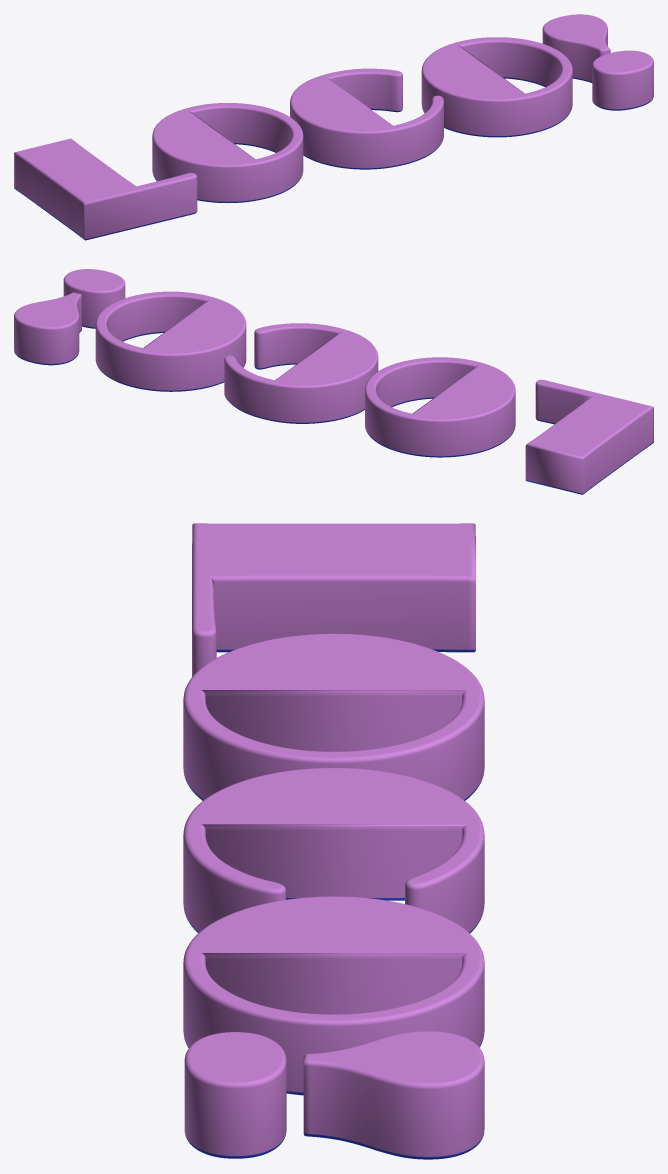
The model's file is asset.glb.
3 renders of one model, top to bottom at view 1: azimuth 30°, elevation 25°; view 2: azimuth 150°, elevation 25°; view 3: azimuth 270°, elevation 25°, orthographic. The views are drawn at different scales.
Parts seen in each view (by area): view 1: テキスト; view 2: テキスト; view 3: テキスト.
Part boxes in pixels (x1=…): テキスト: x1=14, y1=14, x2=653, y2=240; テキスト: x1=14, y1=269, x2=653, y2=494; テキスト: x1=183, y1=523, x2=484, y2=1159.
Bounding box in the file's own units: 2.86 × 0.18 × 0.6457.
